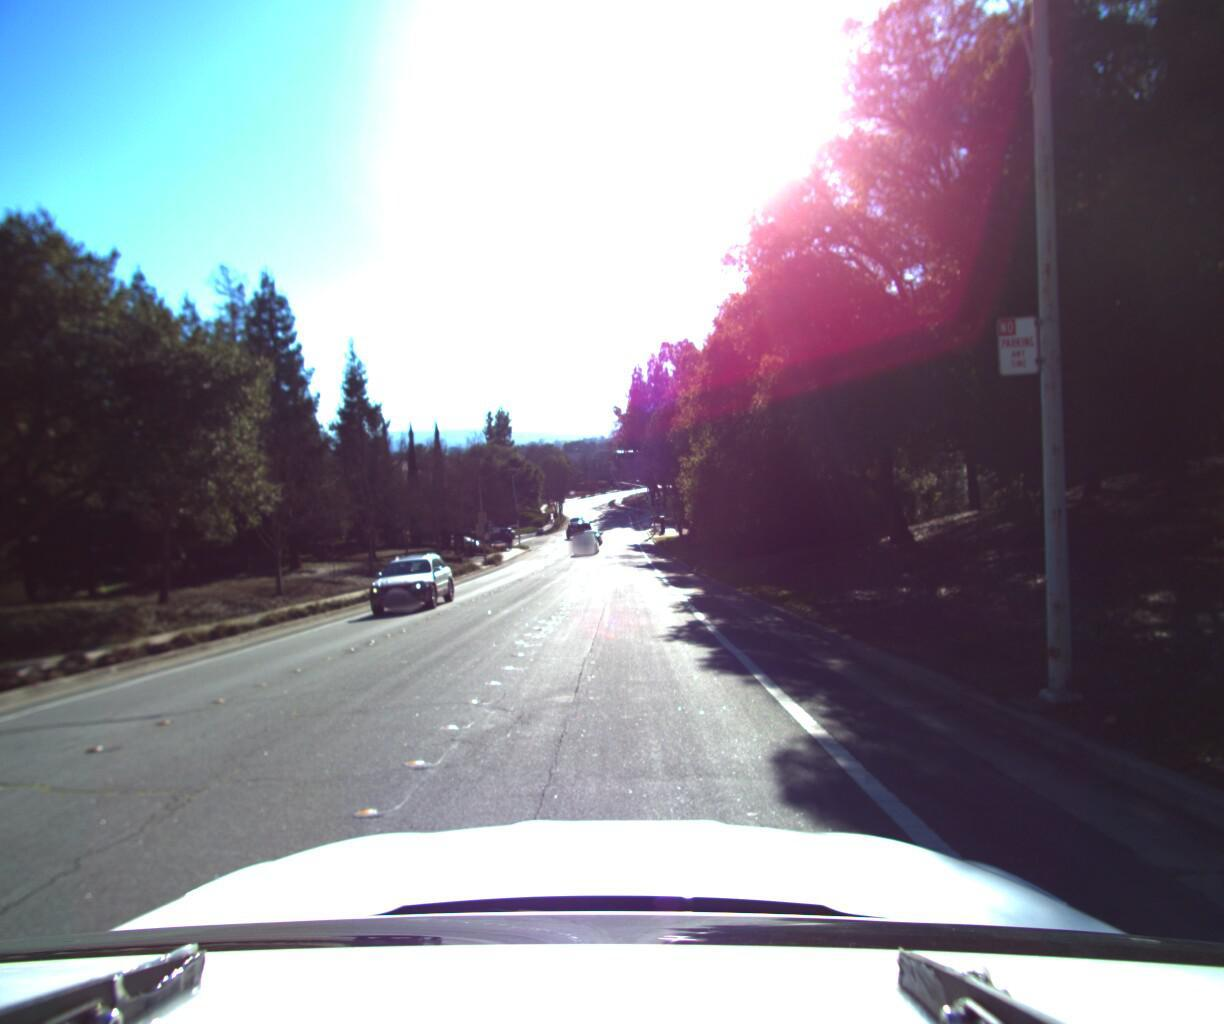car: (361, 543, 464, 626)
